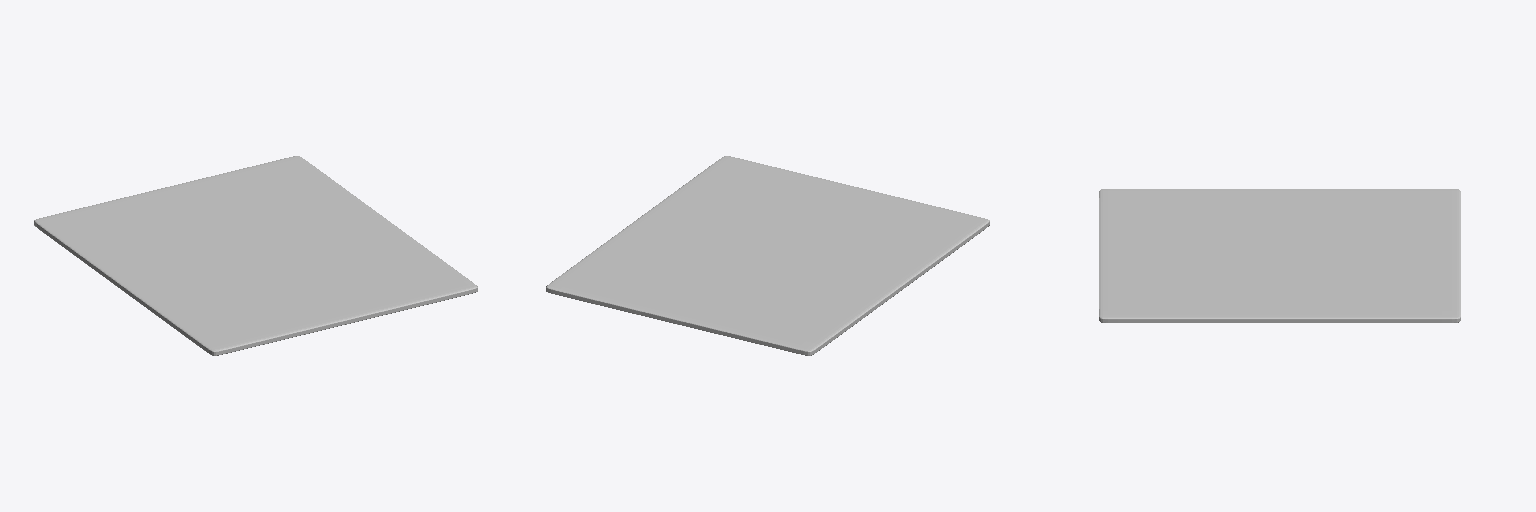
The model's file is place.obj.
3 views of the same model, side by side, from view 1: azimuth 30°, elevation 25°; view 2: azimuth 150°, elevation 25°; view 3: azimuth 270°, elevation 25° (orthographic).
Visible parts, largest first — view 1: place:PlaceFBXASC045Mats; view 2: place:PlaceFBXASC045Mats; view 3: place:PlaceFBXASC045Mats.
Part boxes in pixels (bbox=[...]): place:PlaceFBXASC045Mats: bbox=[34, 156, 477, 355]; place:PlaceFBXASC045Mats: bbox=[546, 156, 989, 355]; place:PlaceFBXASC045Mats: bbox=[1099, 189, 1460, 322].
Size of the model in its own units: 33.7 by 0.7177 by 39.62.